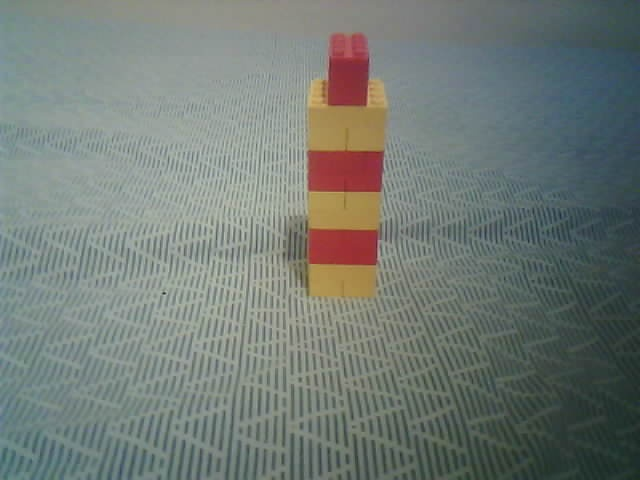lego: (302, 30, 391, 299)
